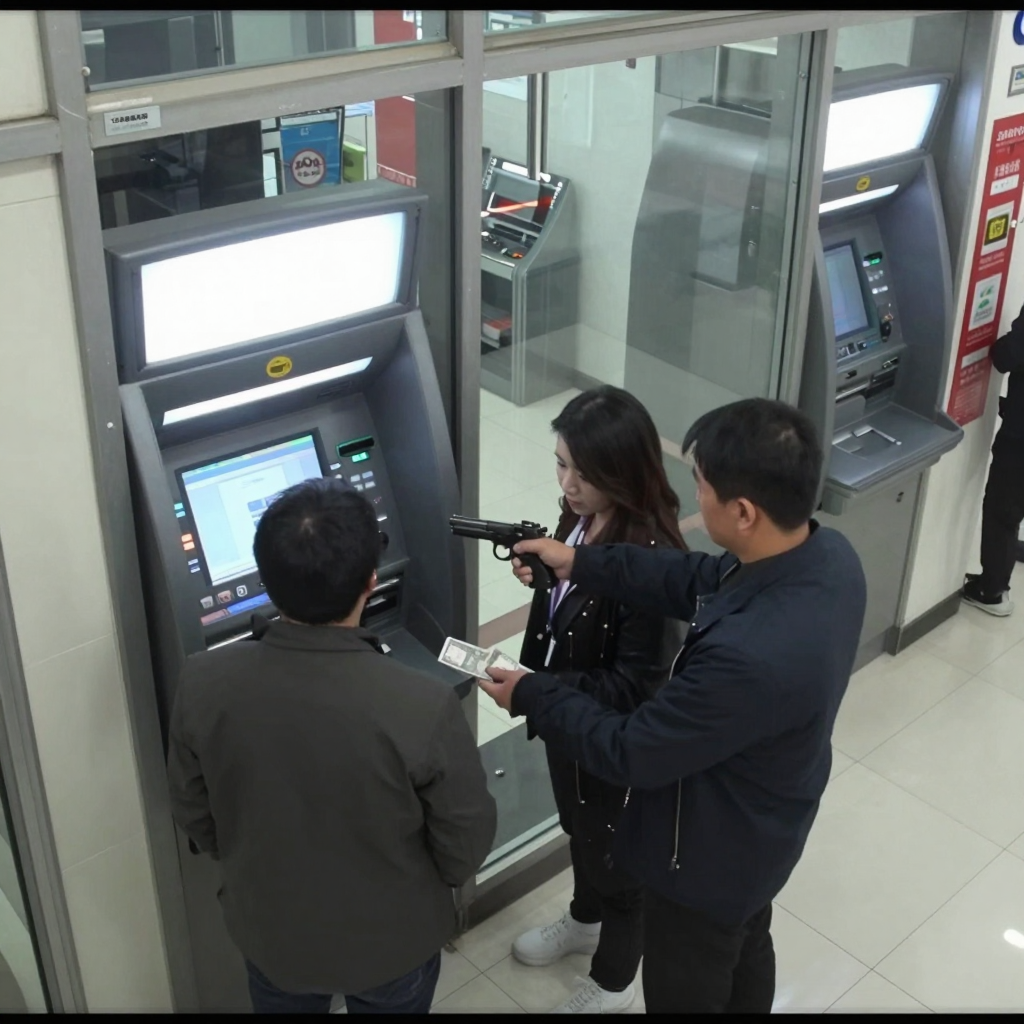Robbery: (484, 398, 868, 1014), (165, 477, 498, 1015), (504, 384, 692, 1011)
Shooting: (448, 514, 556, 589)
